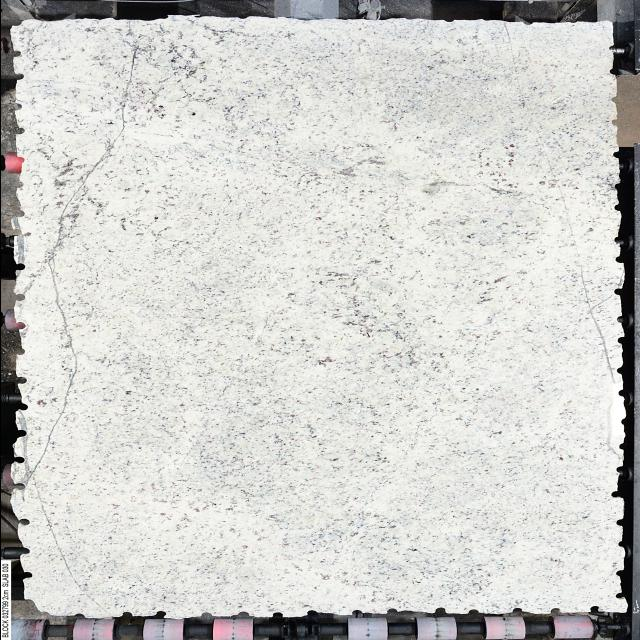chapa: (9, 0, 640, 619)
furo: (19, 594, 53, 621)
veio: (610, 332, 632, 347), (6, 454, 26, 468), (10, 260, 27, 276), (9, 481, 29, 494), (11, 320, 29, 334), (10, 45, 27, 59), (230, 610, 256, 619), (10, 70, 24, 86), (609, 488, 627, 500), (608, 203, 626, 215), (11, 428, 29, 440), (13, 516, 31, 528), (609, 284, 623, 298), (19, 570, 33, 584), (610, 366, 626, 378), (10, 126, 26, 138), (8, 208, 24, 220), (11, 346, 27, 358), (15, 400, 31, 412), (612, 253, 626, 266), (431, 605, 449, 615), (614, 440, 626, 454), (614, 387, 628, 399), (9, 228, 21, 242), (16, 546, 30, 558), (348, 608, 364, 618), (384, 606, 400, 616), (612, 518, 628, 528), (12, 376, 28, 386), (609, 148, 622, 160), (10, 292, 24, 303), (120, 610, 136, 619), (305, 608, 321, 617), (508, 606, 526, 614), (606, 116, 618, 128), (155, 608, 169, 618), (200, 608, 214, 618), (466, 607, 481, 616), (587, 604, 600, 614), (609, 592, 625, 600), (612, 568, 626, 577), (270, 610, 285, 618), (614, 540, 626, 550), (605, 66, 617, 76), (10, 102, 20, 114), (549, 607, 563, 615), (608, 95, 618, 106), (613, 315, 623, 325), (612, 466, 624, 474), (610, 242, 616, 246)
